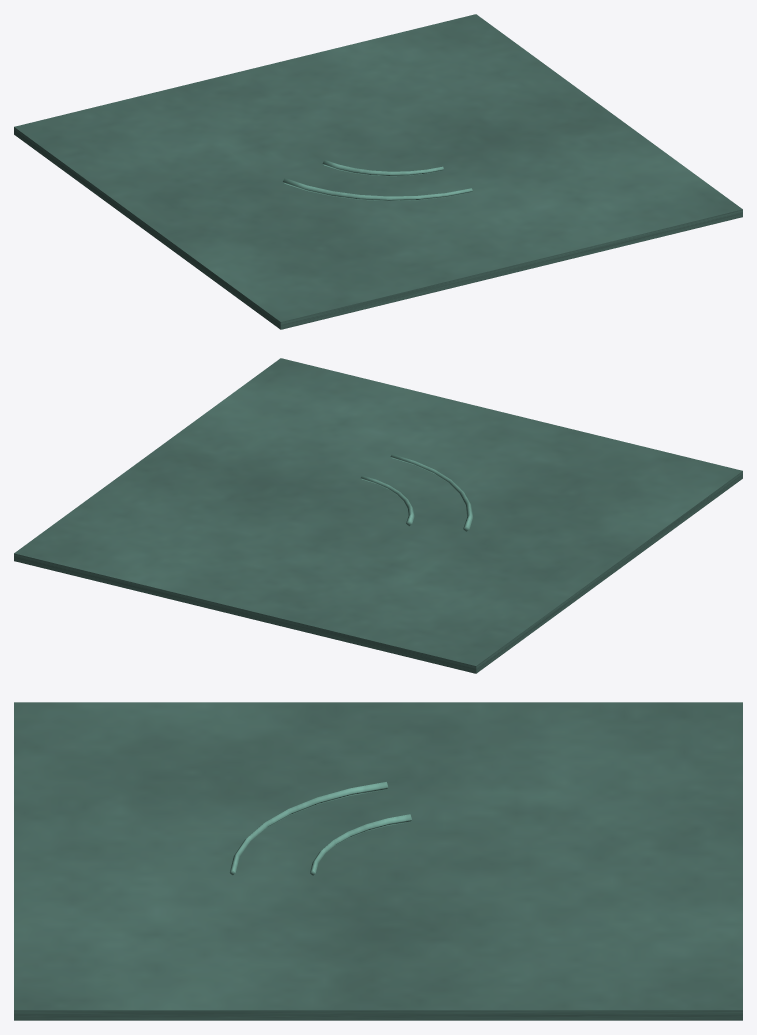
The model's file is ring-brine-pool-3.fbx.
3 renders of one model, top to bottom at view 1: azimuth 30°, elevation 25°; view 2: azimuth 150°, elevation 25°; view 3: azimuth 270°, elevation 25°, orthographic. The views are drawn at different scales.
Parts seen in each view (by area): view 1: ring-brine-pool-3__Geometry; view 2: ring-brine-pool-3__Geometry; view 3: ring-brine-pool-3__Geometry.
Boxes of the visible parts, x1,y1,x2,y2 form: ring-brine-pool-3__Geometry: [14, 14, 742, 329]; ring-brine-pool-3__Geometry: [14, 358, 742, 673]; ring-brine-pool-3__Geometry: [14, 702, 742, 1020].
Size of the model in its own units: 1 by 0.037 by 1.
